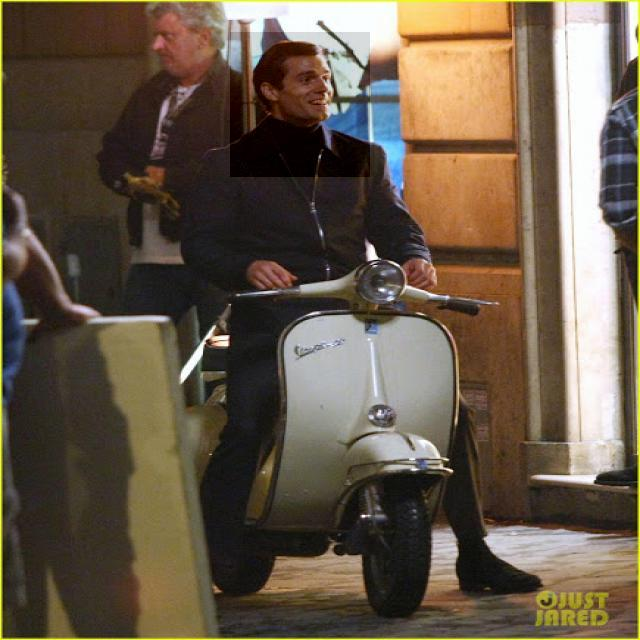No_Helmet: (230, 32, 370, 177)
